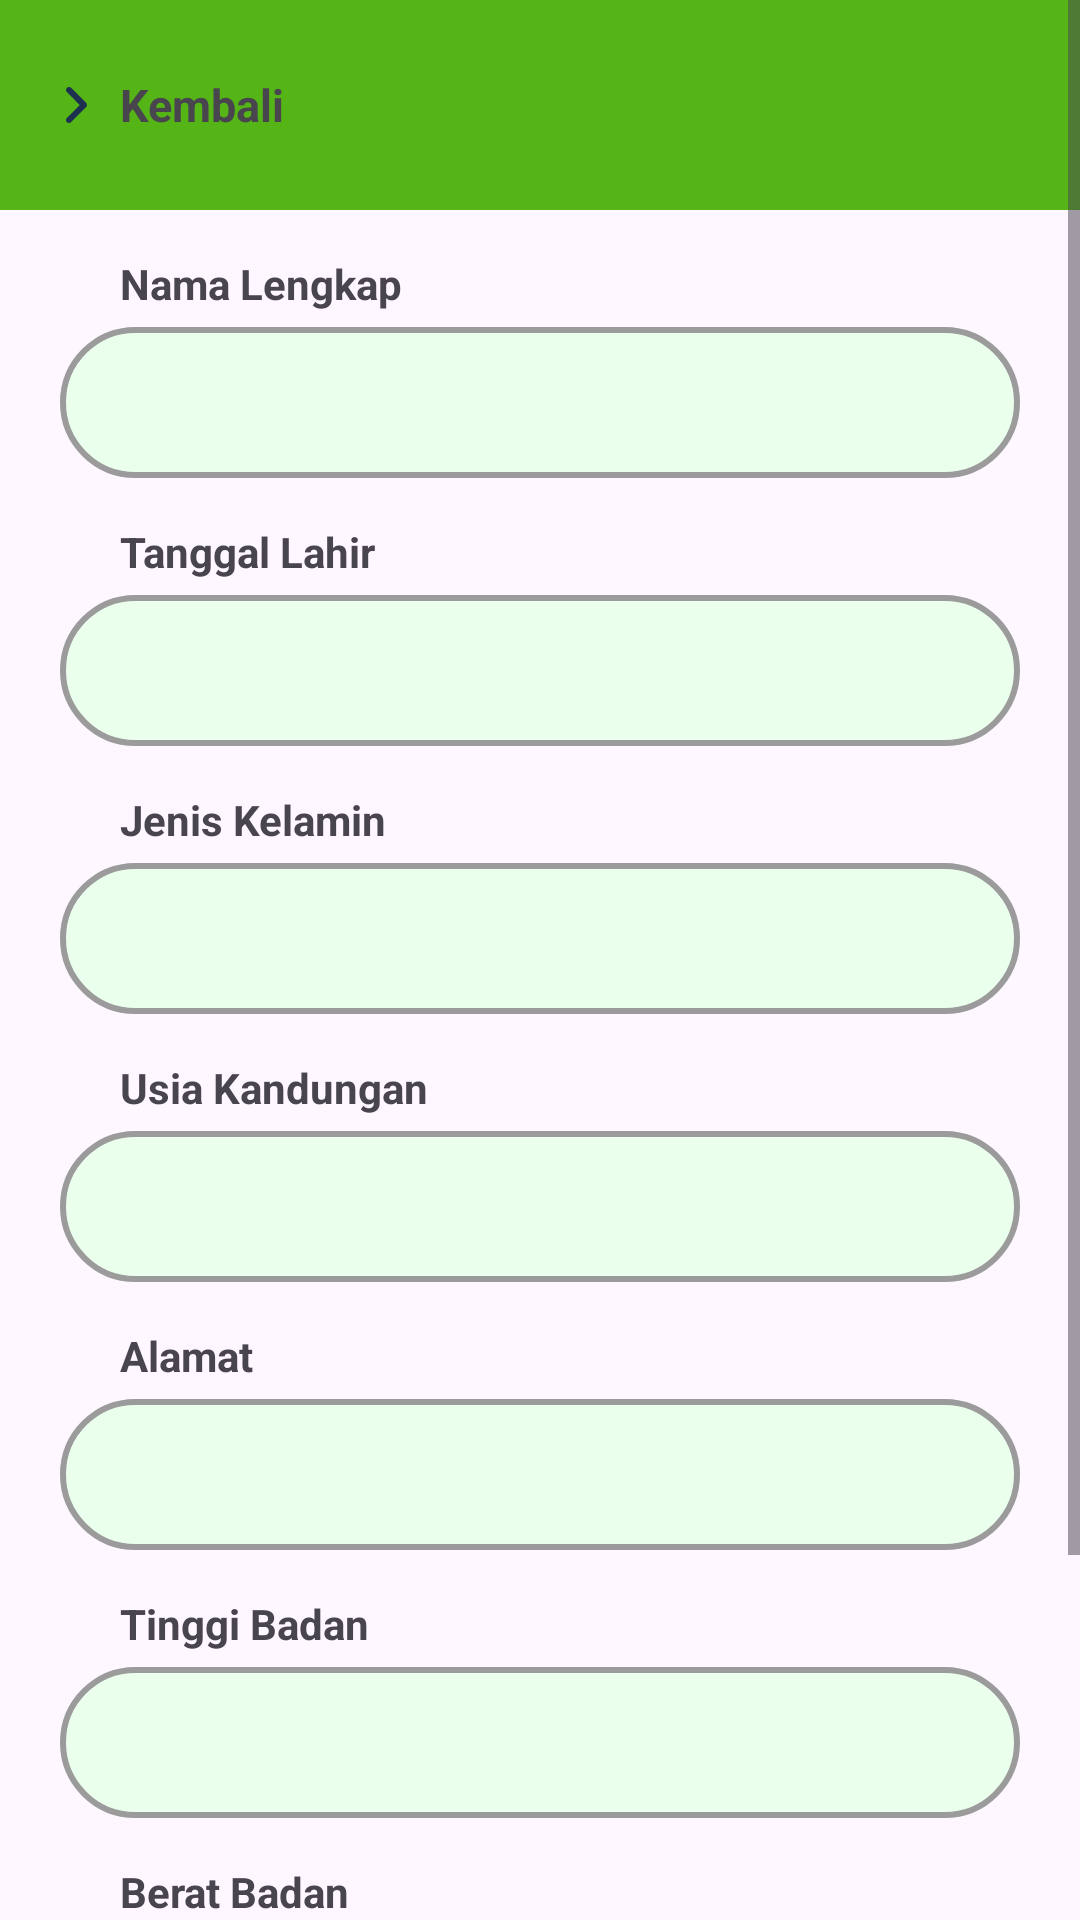

Icons on this 1080×1920 Android screen, each with the point to tap as point (x, y):
right: point (76, 105)
